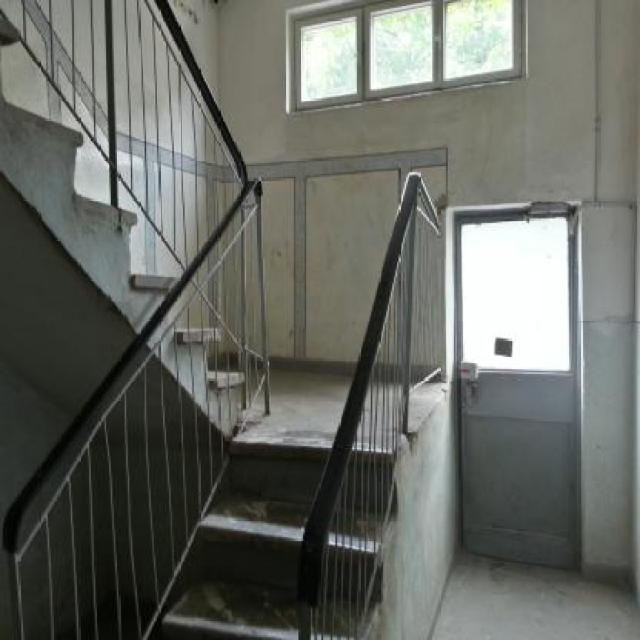stair: (1, 0, 270, 392), (164, 399, 453, 639)
